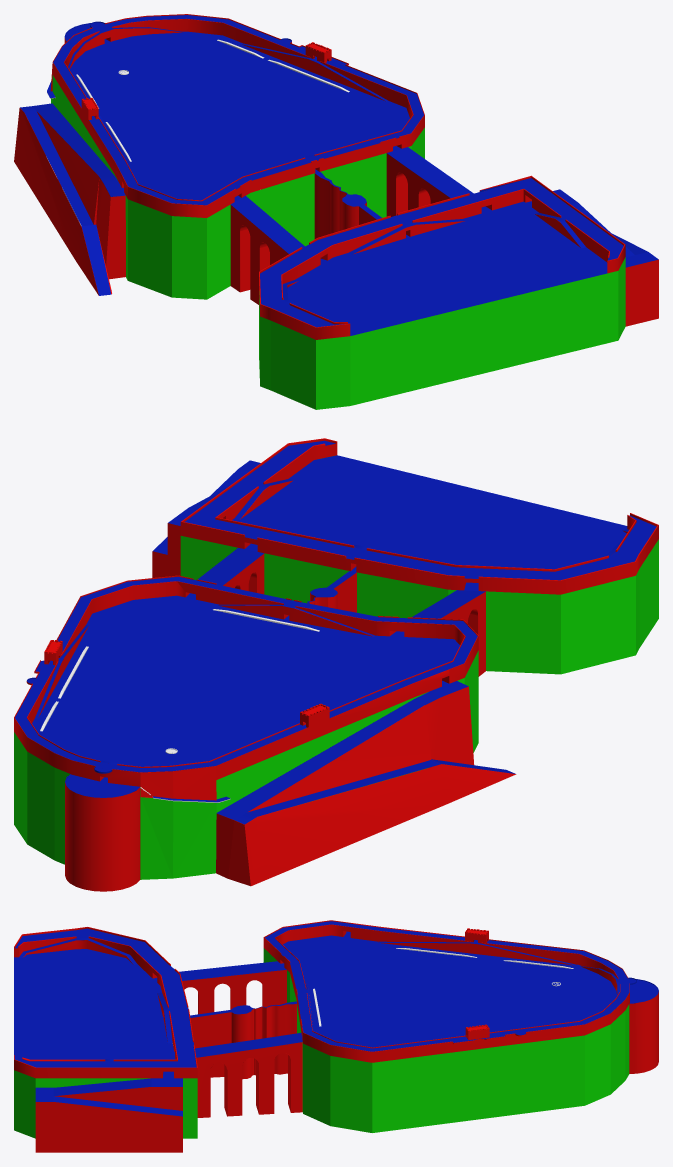
File: Ville_06.FBX
3 views of the same model, one above another, from view 1: azimuth 30°, elevation 25°; view 2: azimuth 150°, elevation 25°; view 3: azimuth 270°, elevation 25° (orthographic). The views are drawn at different scales.
Visible parts, largest first — view 1: Group34, Group27, Group31, Group28, Group30, Group8, Muraille_Sud, Group1, Group2, Pente, Group25, Group16 (+3 smaller); view 2: Group34, Group8, Group31, Group27, Group30, Muraille_Sud, Group28, Group9, Group24, Group1, Group2, Pente (+5 smaller); view 3: Group34, Group28, Group31, Group30, Pente, Muraille_Sud, Group2, Group25, Group1, Group27, Group24, Group21 (+2 smaller).
Part boxes in pixels (left/top/right/bottom): Group34: left=69, top=31, right=409, bottom=201; Group27: left=259, top=257, right=625, bottom=409; Group31: left=287, top=201, right=607, bottom=335; Group28: left=52, top=75, right=424, bottom=299; Group30: left=52, top=14, right=424, bottom=217; Group8: left=14, top=103, right=125, bottom=295; Muraille_Sud: left=259, top=175, right=625, bottom=339; Group1: left=230, top=195, right=304, bottom=304; Group2: left=386, top=147, right=473, bottom=216; Pente: left=553, top=189, right=658, bottom=326; Group25: left=314, top=172, right=381, bottom=238; Group16: left=241, top=43, right=388, bottom=101; Group34: left=32, top=595, right=459, bottom=766; Group8: left=216, top=681, right=516, bottom=886; Group31: left=232, top=455, right=627, bottom=590; Group27: left=180, top=536, right=658, bottom=674; Group30: left=14, top=575, right=478, bottom=786; Muraille_Sud: left=180, top=438, right=658, bottom=594; Group28: left=14, top=650, right=478, bottom=879; Group9: left=140, top=766, right=230, bottom=879; Group24: left=65, top=774, right=140, bottom=891; Group1: left=412, top=590, right=485, bottom=676; Group2: left=198, top=548, right=264, bottom=594; Pente: left=152, top=460, right=260, bottom=577; Group34: left=281, top=933, right=617, bottom=1047; Group28: left=263, top=948, right=629, bottom=1132; Group31: left=14, top=949, right=175, bottom=1078; Group30: left=263, top=920, right=629, bottom=1062; Pente: left=35, top=1078, right=182, bottom=1152; Muraille_Sud: left=14, top=927, right=197, bottom=1078; Group2: left=195, top=1033, right=302, bottom=1117; Group25: left=190, top=1001, right=296, bottom=1079; Group1: left=179, top=961, right=286, bottom=1014; Group27: left=14, top=1070, right=197, bottom=1138; Group24: left=629, top=979, right=658, bottom=1073; Group21: left=378, top=941, right=575, bottom=965.
Size of the model in its own units: 356 by 582 by 89.45.
